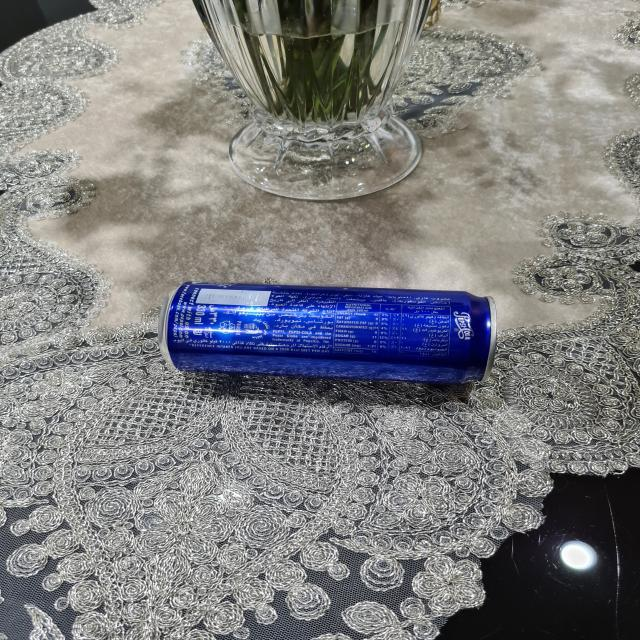can: (162, 290, 504, 382)
